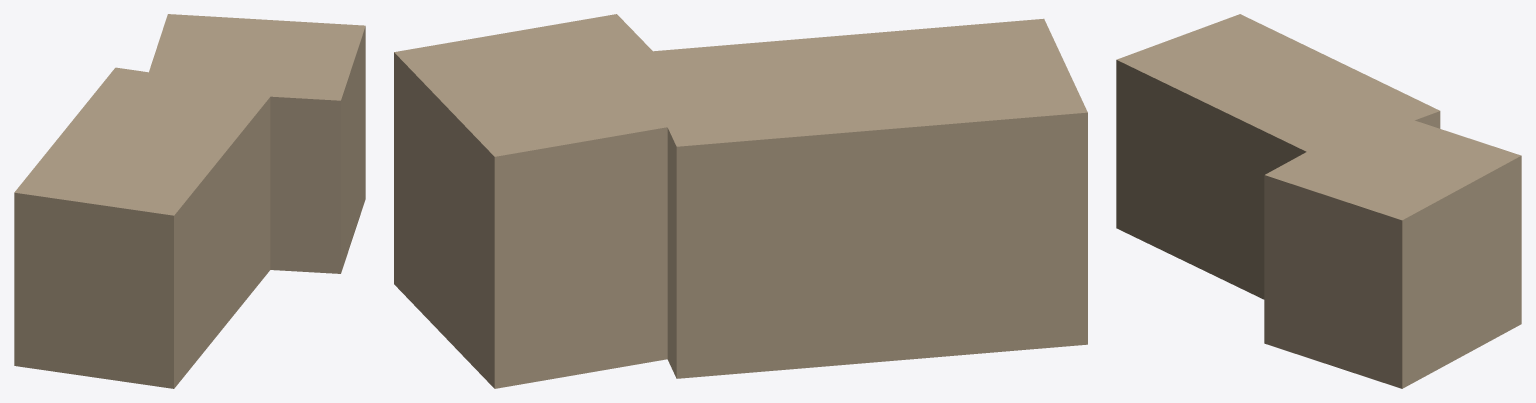
File: bld_99519915.dae
3 renders of one model, left to right at view 1: azimuth 30°, elevation 25°; view 2: azimuth 150°, elevation 25°; view 3: azimuth 270°, elevation 25°, orthographic. The views are drawn at different scales.
Parts seen in each view (by area): view 1: bld_99519915; view 2: bld_99519915; view 3: bld_99519915.
Part boxes in pixels (x1,y1,x2,y2): bld_99519915: (14,14,365,388); bld_99519915: (394,14,1087,388); bld_99519915: (1116,14,1521,388).
Size of the model in its own units: 21.01 by 17.43 by 8.
